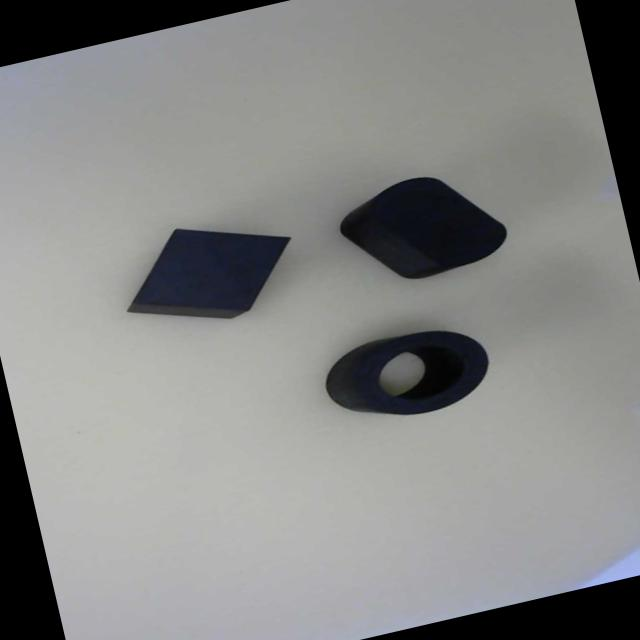oval: (355, 165, 519, 274)
ring: (352, 317, 494, 424)
square: (133, 227, 292, 309)
